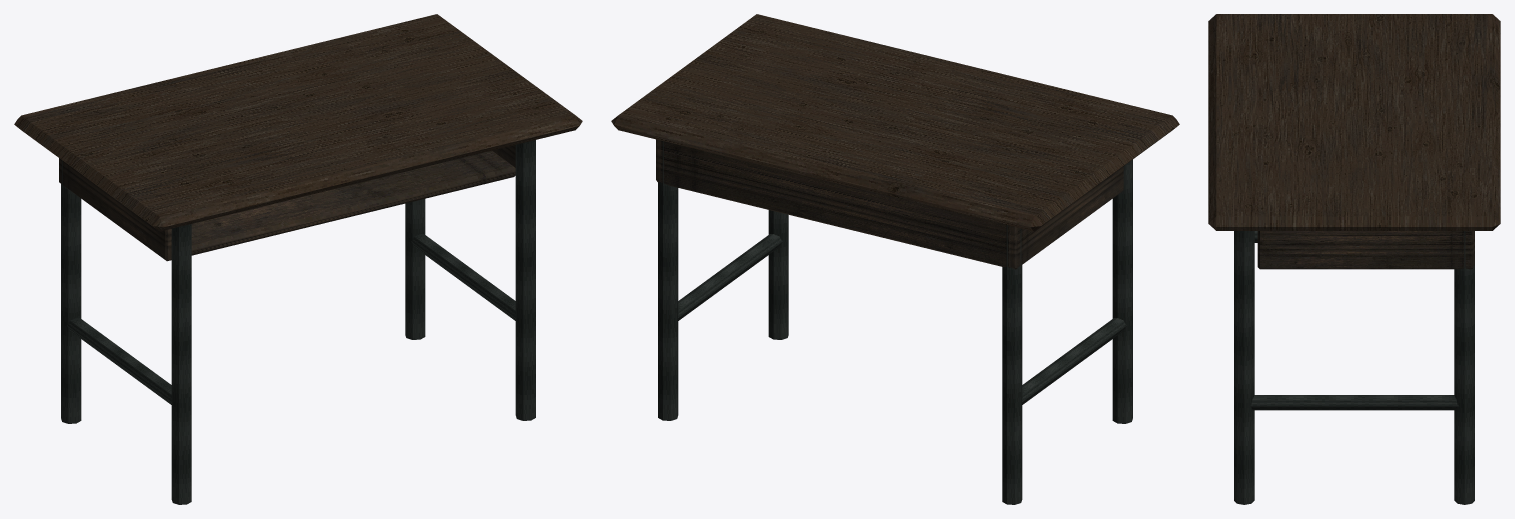
Rendered from level_student_desk.glb.
3 views of the same model, side by side, from view 1: azimuth 30°, elevation 25°; view 2: azimuth 150°, elevation 25°; view 3: azimuth 270°, elevation 25° (orthographic).
Visible parts, largest first — view 1: level_student_desk; view 2: level_student_desk; view 3: level_student_desk.
Boxes of the visible parts, x1=… form: level_student_desk: x1=14, y1=14, x2=582, y2=504; level_student_desk: x1=611, y1=14, x2=1179, y2=504; level_student_desk: x1=1208, y1=14, x2=1500, y2=504.
Size of the model in its own units: 1.1 by 0.74 by 0.65.
3 materials, 3 textured.
